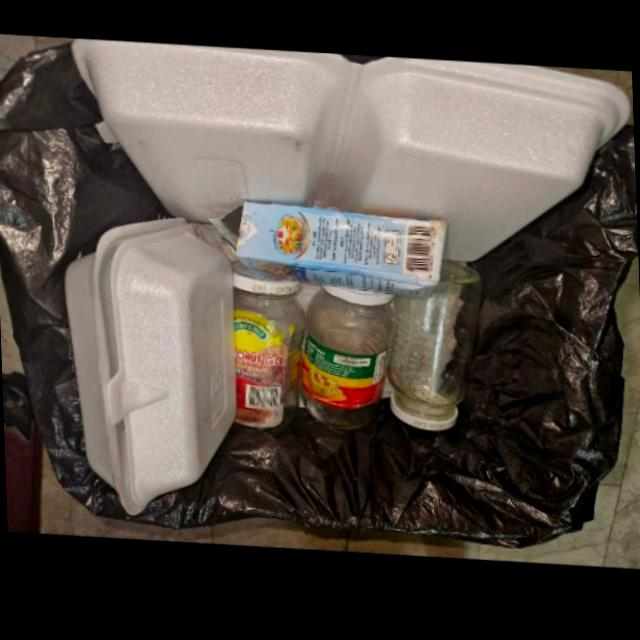chai_thuy_tinh: (387, 263, 483, 435), (300, 289, 397, 434), (234, 268, 307, 440)
vo_hop_sua: (209, 207, 448, 297)
xop: (70, 46, 633, 267), (65, 224, 237, 524)
